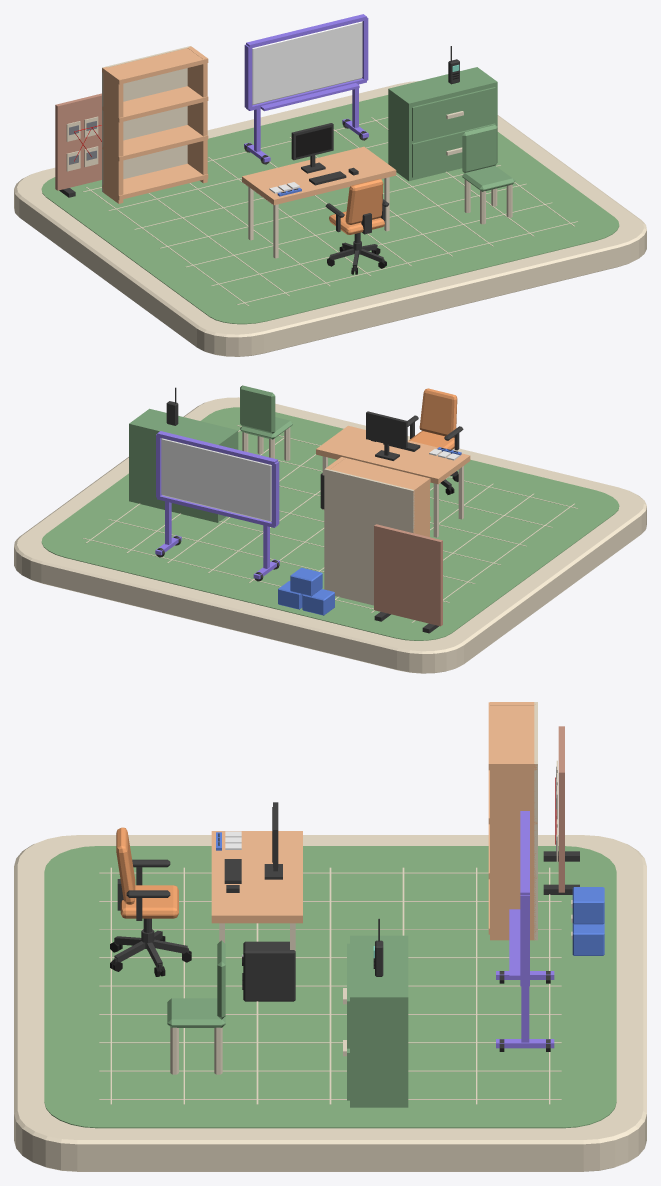
3 renders of one model, top to bottom at view 1: azimuth 30°, elevation 25°; view 2: azimuth 150°, elevation 25°; view 3: azimuth 270°, elevation 25°, orthographic. The views are drawn at different scales.
Parts seen in each view (by area): view 1: COM-02 Floor Surface, COM-01 Rounded Base Direct, Cabinet, Writing surface, Top, Back, Panel, COM-04_Chair_blender_direct, Side, Side.001, Shelf.003, Shelf.002 (+8 smaller); view 2: COM-02 Floor Surface, COM-01 Rounded Base Direct, Back, Writing surface, Panel, Cabinet, Top, COM-04_Chair_blender_direct, Backrest, Frame, Shelf.003, Frame rail.001 (+7 smaller); view 3: COM-02 Floor Surface, COM-01 Rounded Base Direct, Cabinet, Top, Side.001, COM-04_Chair_blender_direct, Tower, Shelf.003, Seat, Stacked case.002, Panel, Stacked case.001 (+8 smaller).
Boxes of the visible parts, x1,y1,x2,y2 form: COM-02 Floor Surface: (41,95,619,324); COM-01 Rounded Base Direct: (14,81,646,356); Cabinet: (388,67,497,180); Writing surface: (252,21,362,105); Top: (242,146,396,258); Back: (102,46,191,192); Panel: (55,93,101,190); COM-04_Chair_blender_direct: (325,179,388,274); Side: (103,67,123,203); Side.001: (187,46,207,183); Shelf.003: (102,48,208,84); Shelf.002: (102,86,208,122); COM-02 Floor Surface: (41,407,619,640); COM-01 Rounded Base Direct: (14,397,646,673); Back: (324,468,414,605); Writing surface: (161,438,271,521); Panel: (374,524,442,626); Cabinet: (129,408,238,522); Top: (316,425,470,537); COM-04_Chair_blender_direct: (407,388,463,494); Backrest: (240,385,275,433); Frame: (366,411,407,460); Shelf.003: (330,457,430,494); Frame rail.001: (157,431,277,465); COM-02 Floor Surface: (44,846,616,1128); COM-01 Rounded Base Direct: (14,835,646,1171); Cabinet: (343,935,408,1107); Top: (211,831,302,950); Side.001: (490,760,535,940); COM-04_Chair_blender_direct: (110,827,191,976); Tower: (243,941,295,1001); Shelf.003: (488,702,537,770); Seat: (167,998,225,1027); Stacked case.002: (572,887,604,924); Panel: (558,726,564,892); Stacked case.001: (572,923,604,955).
Size of the model in its own units: 6 by 1.9 by 5.2.
Materials: 1 (1 with a texture image).
